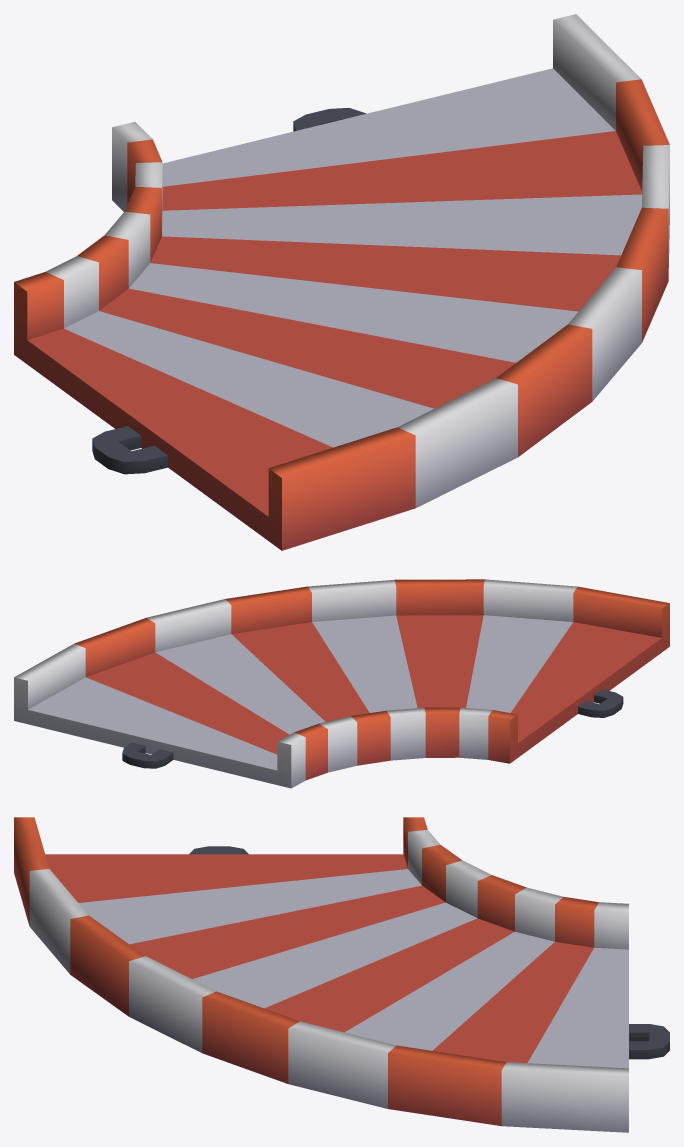
File: track-striped-wide-corner-small.glb
3 renders of one model, top to bottom at view 1: azimuth 30°, elevation 25°; view 2: azimuth 150°, elevation 25°; view 3: azimuth 270°, elevation 25°, orthographic. The views are drawn at different scales.
Parts seen in each view (by area): view 1: track-striped-wide-corner-small; view 2: track-striped-wide-corner-small; view 3: track-striped-wide-corner-small.
Boxes of the visible parts, x1,y1,x2,y2 form: track-striped-wide-corner-small: (14,14,669,550); track-striped-wide-corner-small: (14,579,669,788); track-striped-wide-corner-small: (14,817,669,1132).
Bounding box in the file's own units: 3.2 × 0.3 × 3.2.
